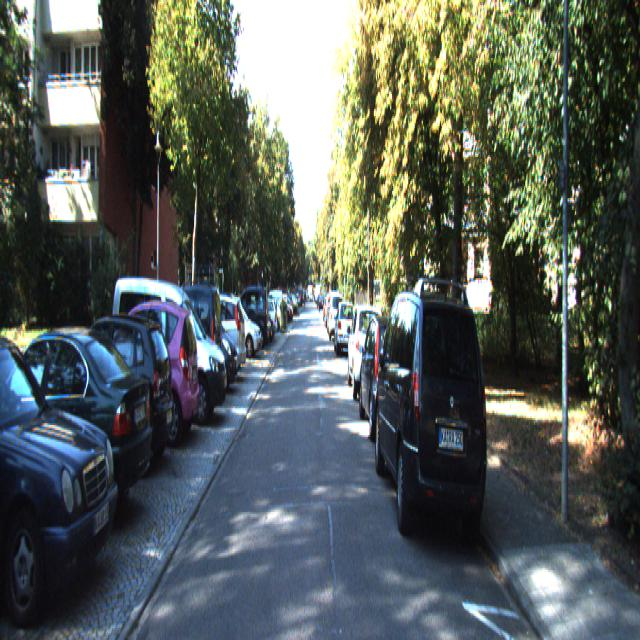Car: (0, 319, 122, 626), (0, 320, 157, 537), (373, 272, 489, 554), (44, 307, 178, 475), (108, 272, 226, 429), (96, 298, 201, 453), (140, 278, 222, 410), (357, 308, 417, 440), (169, 293, 245, 388), (347, 301, 387, 402), (210, 298, 262, 362), (225, 283, 269, 350), (334, 301, 356, 359)
